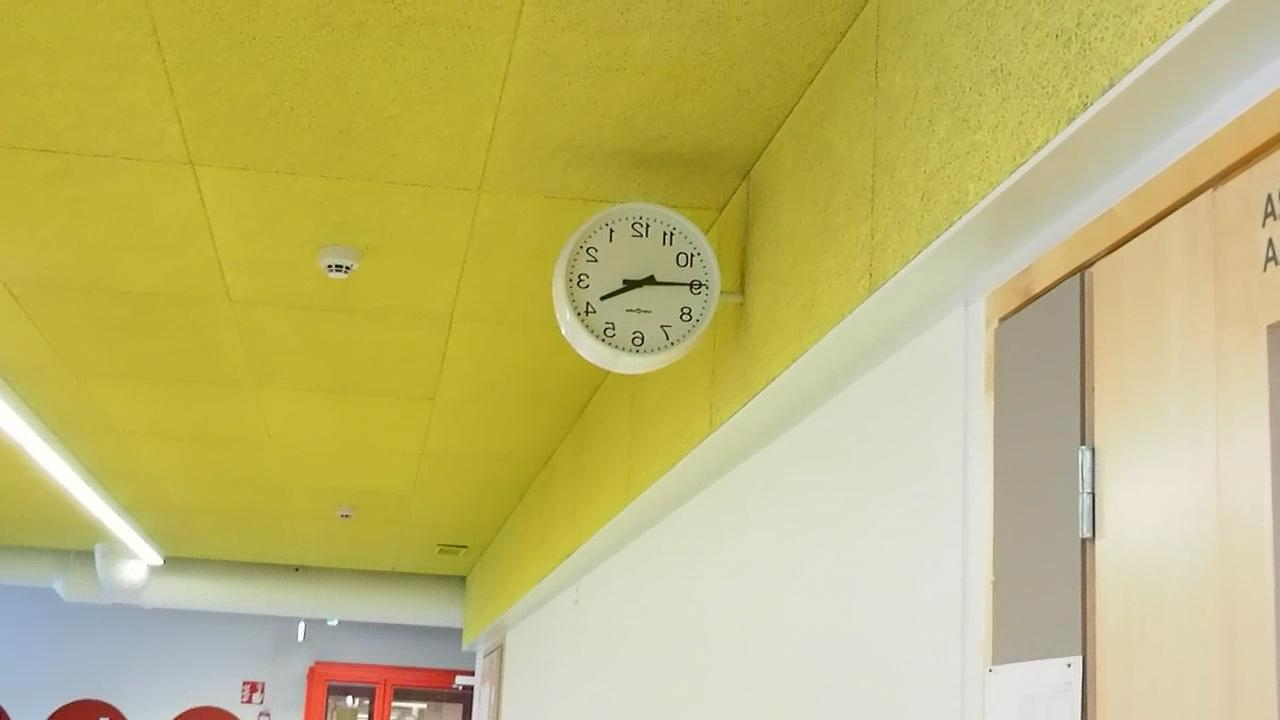clock: (553, 202, 726, 375)
